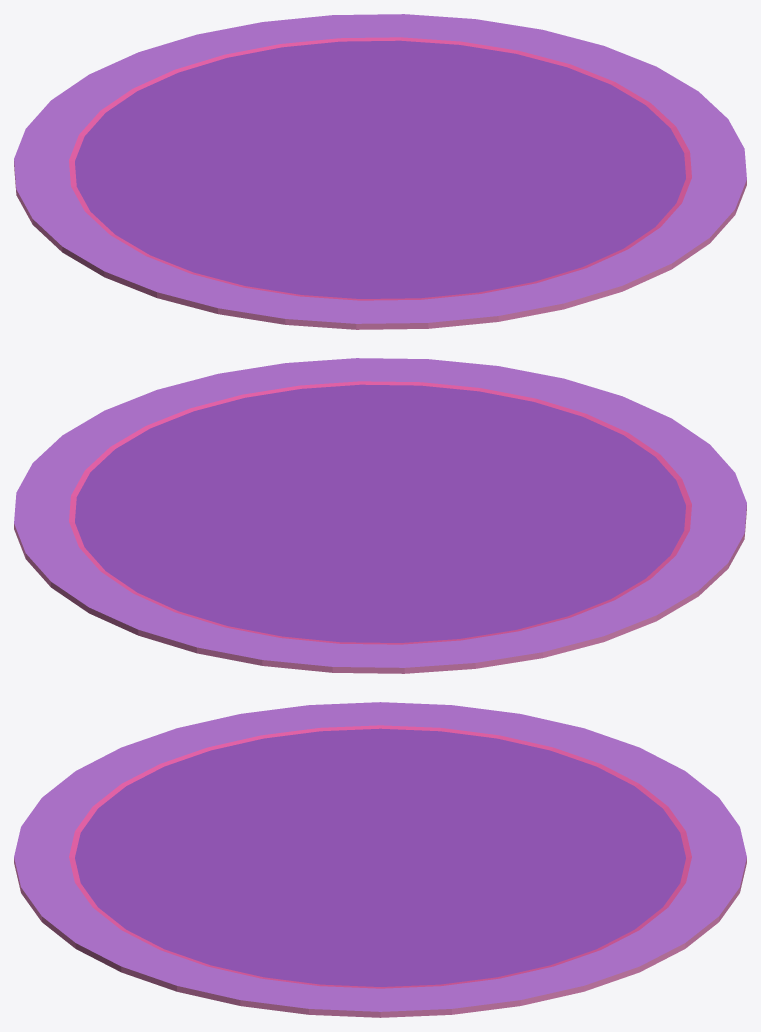
The model's file is evac_pod.fbx.
3 renders of one model, top to bottom at view 1: azimuth 30°, elevation 25°; view 2: azimuth 150°, elevation 25°; view 3: azimuth 270°, elevation 25°, orthographic.
Parts seen in each view (by area): view 1: Circle; view 2: Circle; view 3: Circle.
Boxes of the visible parts, x1,y1,x2,y2 form: Circle: (14, 14, 746, 329); Circle: (14, 358, 746, 673); Circle: (14, 702, 746, 1017).
Size of the model in its own units: 11.08 by 0.0993 by 11.08.
